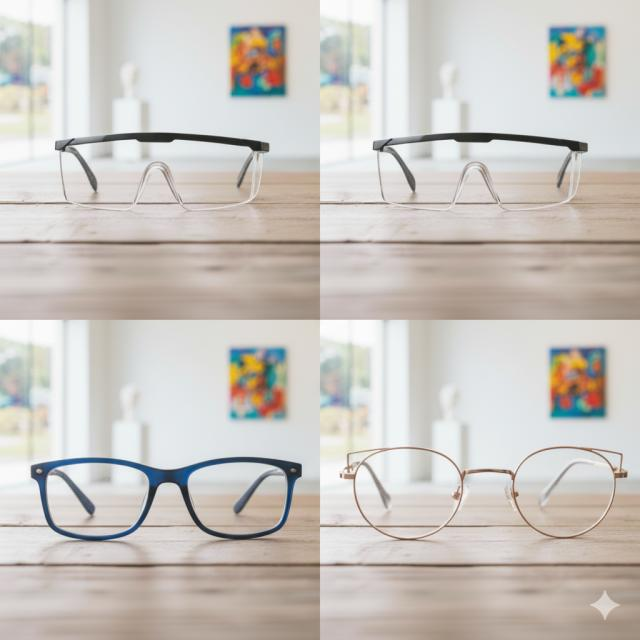oculos-epi: (373, 132, 588, 211), (55, 132, 268, 211)
sem_oculos: (340, 447, 626, 539), (31, 457, 301, 540)
